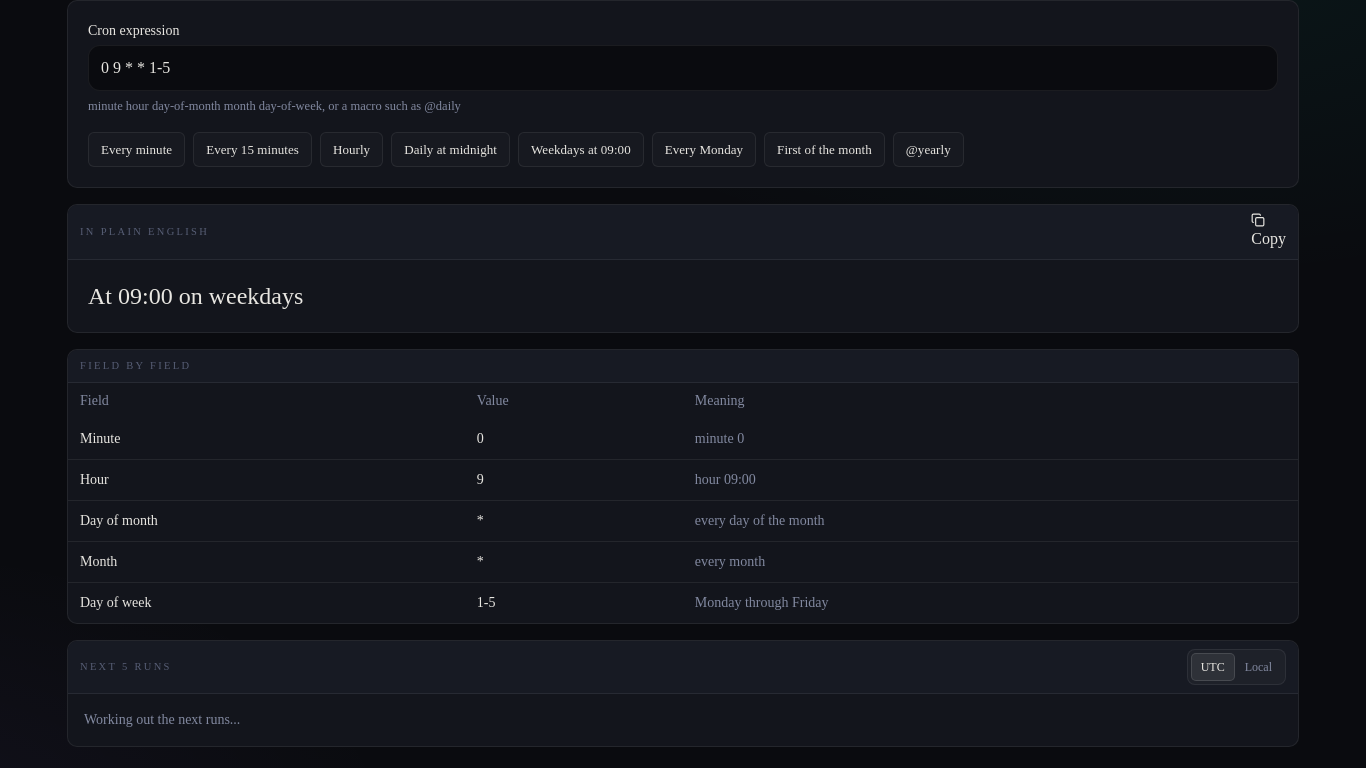
Scenario: CronExplainerClient › examples › fills in the expression when one is chosen
Click the button "Every Monday": x=704, y=150 [652, 132, 756, 167]
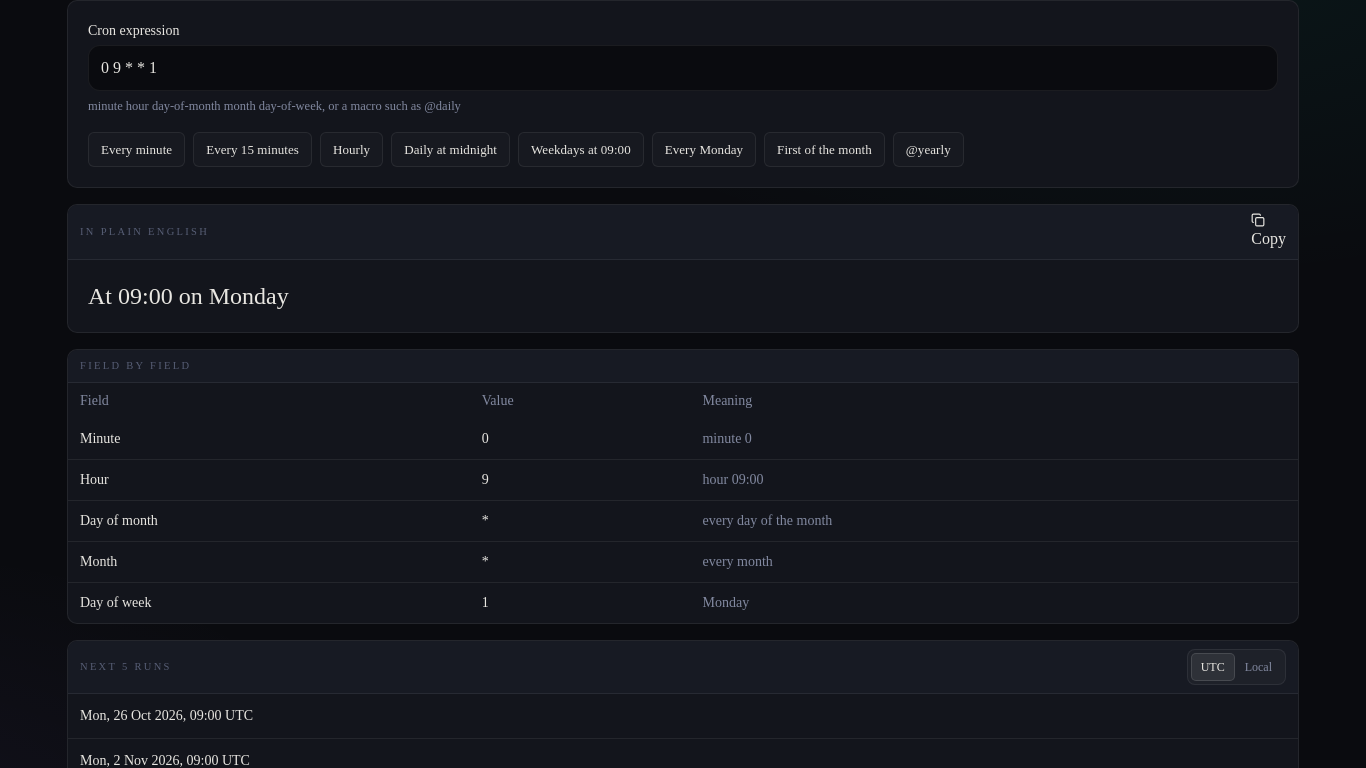
Expected: the field labelled "Cron expression" holds "0 9 * * 1", [88, 45, 1278, 91]
Expected: the text "At 09:00 on Monday" is shown, [88, 283, 289, 309]
